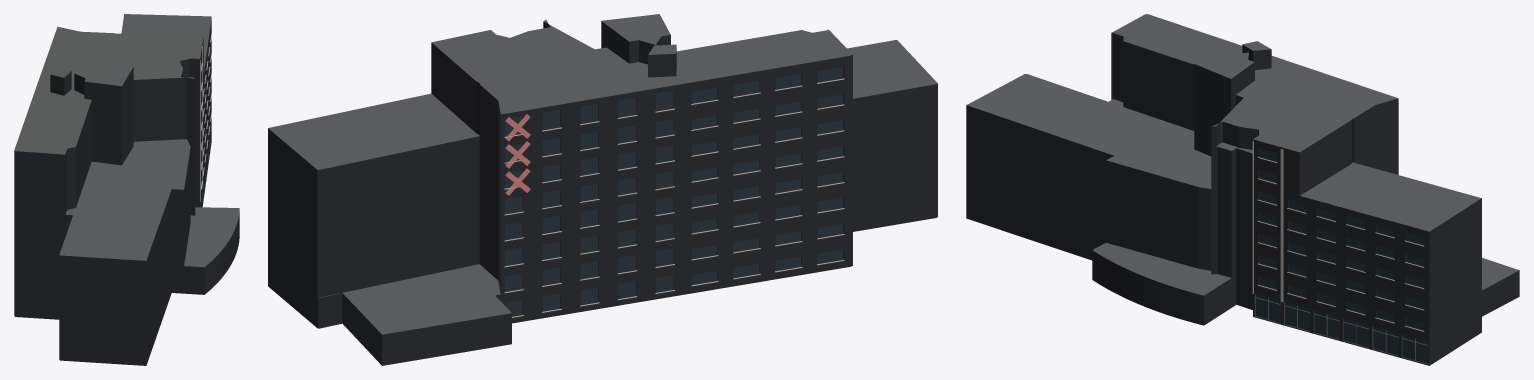
Rendered from recipe-large-stadsloket-noord.glb.
The picture shows the model from 3 angles, left to right: view 1: azimuth 30°, elevation 25°; view 2: azimuth 150°, elevation 25°; view 3: azimuth 270°, elevation 25°; orthographic projection. The views are drawn at different scales.
Visible parts, largest first — view 1: stadsloket-noord; view 2: stadsloket-noord; view 3: stadsloket-noord.
Part boxes in pixels (left/top/right/bottom): stadsloket-noord: left=14, top=14, right=239, bottom=365; stadsloket-noord: left=268, top=14, right=937, bottom=365; stadsloket-noord: left=966, top=14, right=1519, bottom=365.
Bounding box in the file's own units: 59.07 × 30.56 × 77.26.
